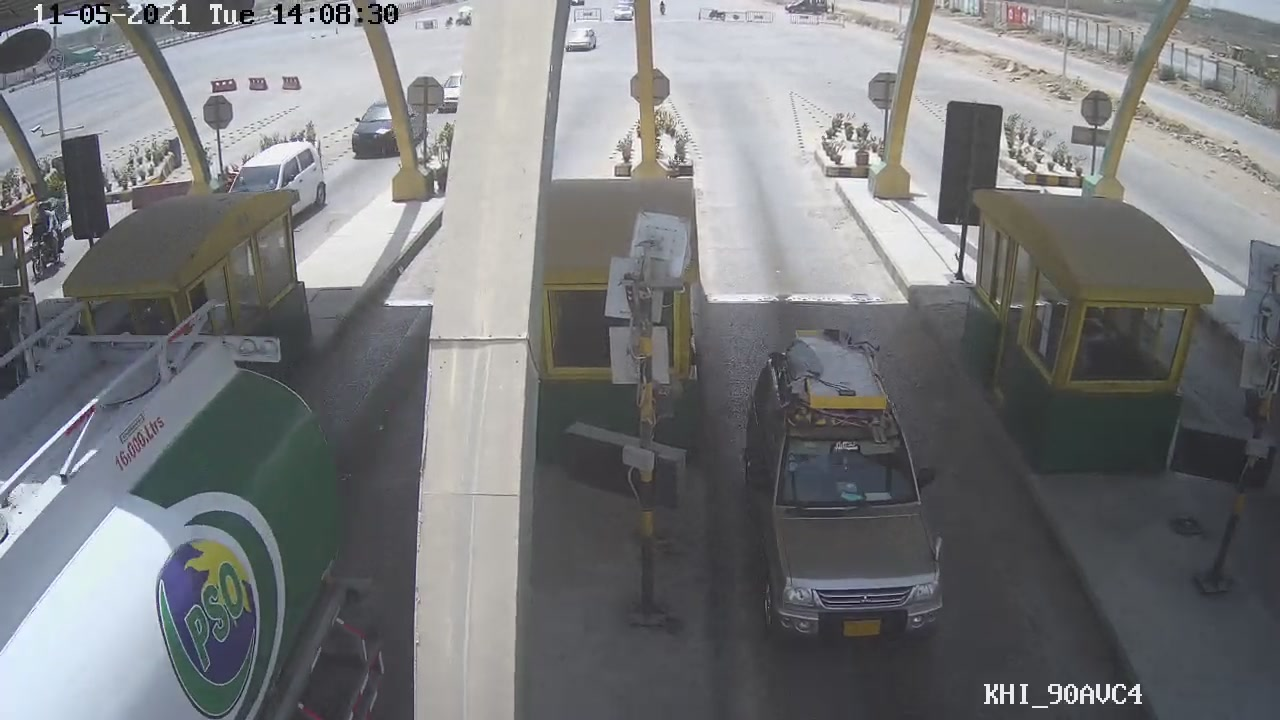F1: (743, 334, 948, 657)
